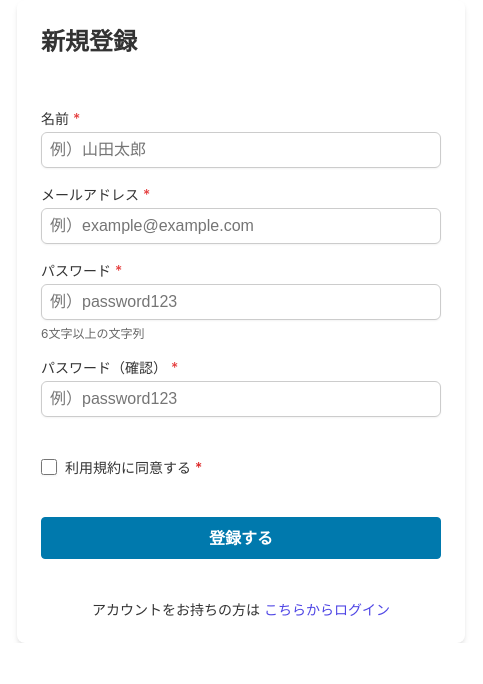
RegisterForm › バリデーション › 無効なメールアドレスを入力するとエラーメッセージが表示されること
The image size is (483, 684).
Type "invalid-email" into the field labelled "メールアドレス*" at (241, 226), box [41,208,441,244]
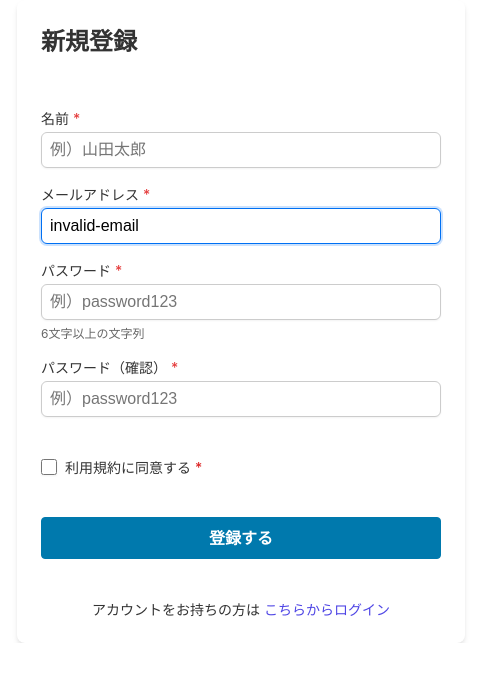
Press Tab
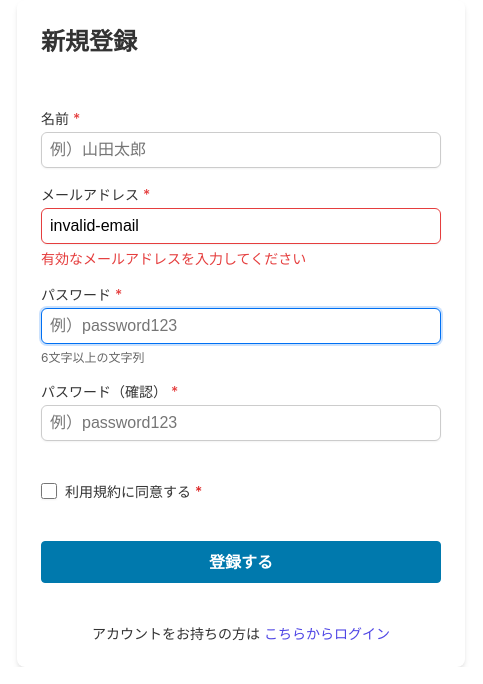
Result: the text "有効なメールアドレスを入力してください" is shown at [41,250,306,267]
